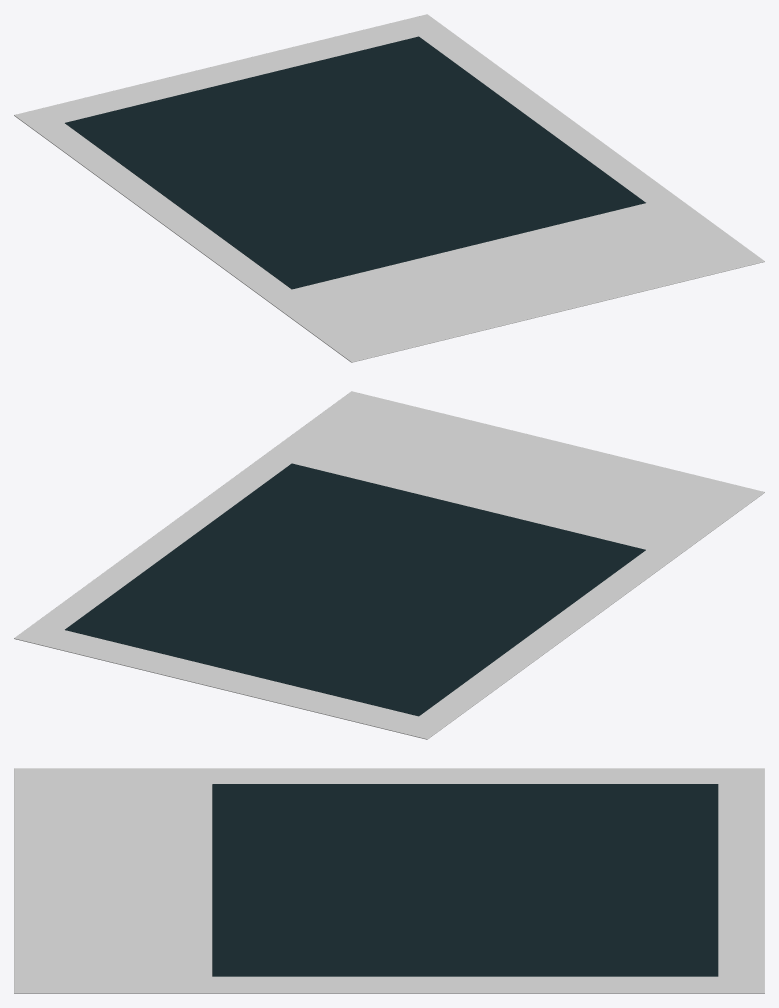
File: imaging_printout.fbx
3 renders of one model, top to bottom at view 1: azimuth 30°, elevation 25°; view 2: azimuth 150°, elevation 25°; view 3: azimuth 270°, elevation 25°, orthographic. The views are drawn at different scales.
Parts seen in each view (by area): view 1: EQ_imaging_printout_ImageArea, EQ_imaging_printout_Body; view 2: EQ_imaging_printout_ImageArea, EQ_imaging_printout_Body; view 3: EQ_imaging_printout_ImageArea, EQ_imaging_printout_Body.
Boxes of the visible parts, left/top/right/bottom form: EQ_imaging_printout_ImageArea: left=65, top=36, right=645, bottom=289; EQ_imaging_printout_Body: left=14, top=14, right=764, bottom=362; EQ_imaging_printout_ImageArea: left=65, top=463, right=645, bottom=716; EQ_imaging_printout_Body: left=14, top=391, right=764, bottom=739; EQ_imaging_printout_ImageArea: left=212, top=784, right=718, bottom=976; EQ_imaging_printout_Body: left=14, top=768, right=764, bottom=993.
Size of the model in its own units: 0.21 by 0.0005 by 0.297.
